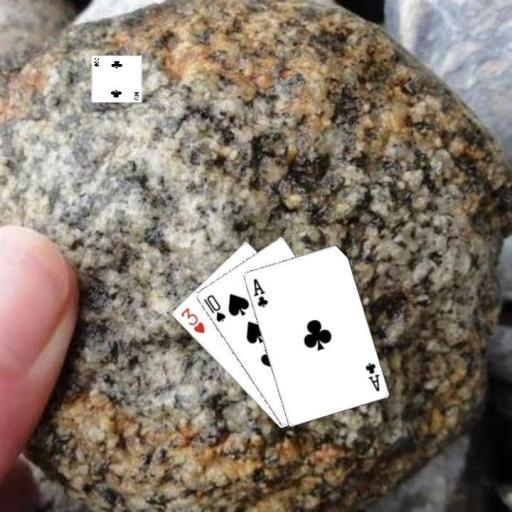10S: (200, 292, 227, 324)
3H: (177, 304, 206, 335)
AC: (250, 275, 269, 309), (362, 359, 381, 393)
